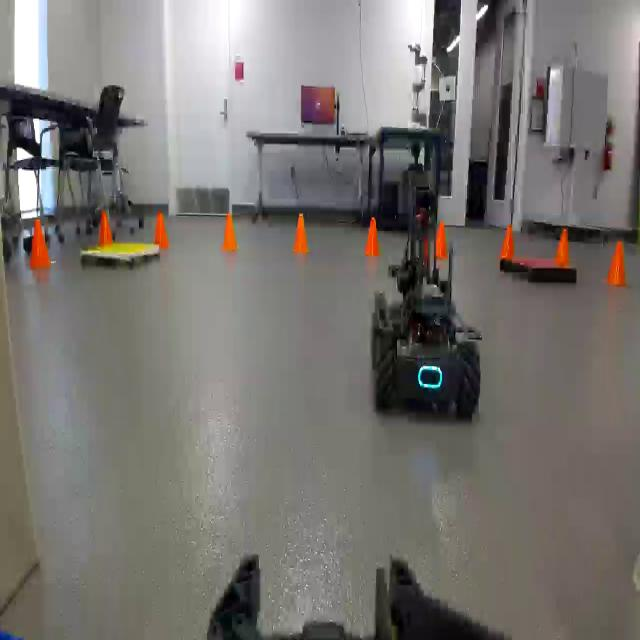cone: (29, 219, 50, 267), (608, 241, 628, 286), (555, 227, 571, 267), (222, 212, 238, 249), (293, 212, 308, 251), (365, 216, 380, 255), (500, 223, 516, 259), (154, 209, 168, 248), (98, 208, 112, 246), (436, 220, 448, 258)
red: (500, 258, 575, 285)
robot: (372, 130, 482, 417)
storage cube: (0, 249, 38, 613)
yellow goal: (81, 242, 160, 271)
